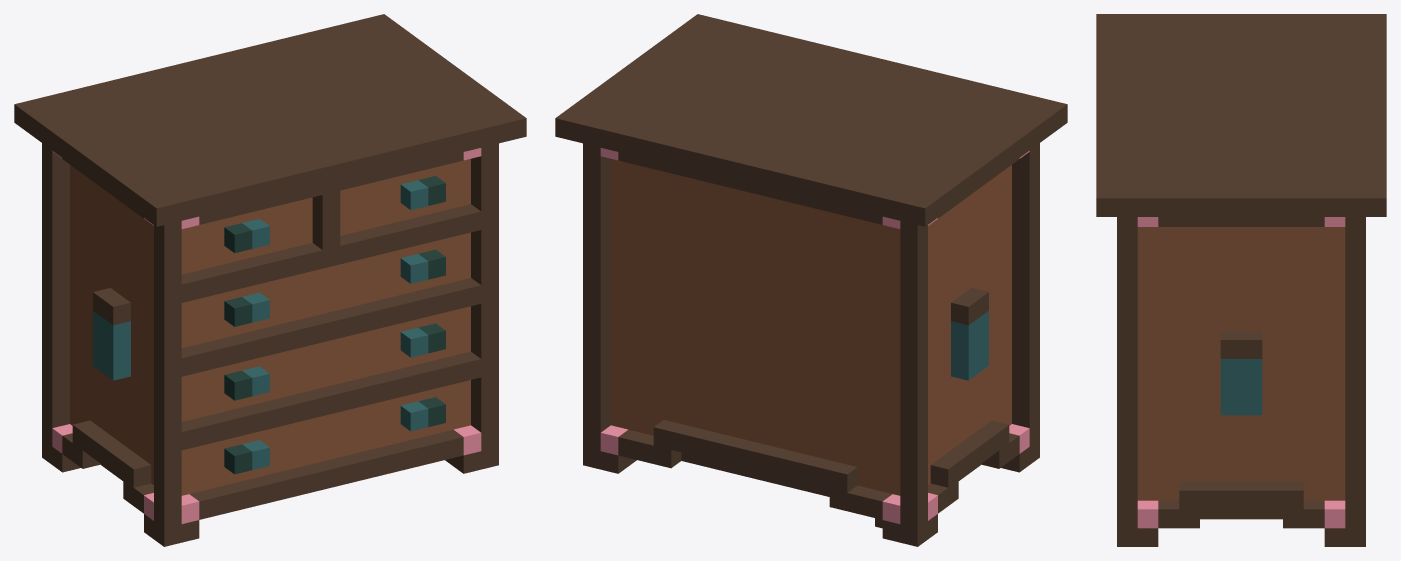
File: prop_drawer_light_brown.glb
The picture shows the model from 3 angles, left to right: view 1: azimuth 30°, elevation 25°; view 2: azimuth 150°, elevation 25°; view 3: azimuth 270°, elevation 25°; orthographic projection. The views are drawn at different scales.
Parts seen in each view (by area): view 1: prop_drawer_light_brown; view 2: prop_drawer_light_brown; view 3: prop_drawer_light_brown.
Boxes of the visible parts, left/top/right/bottom form: prop_drawer_light_brown: left=14, top=14, right=526, bottom=546; prop_drawer_light_brown: left=555, top=14, right=1067, bottom=546; prop_drawer_light_brown: left=1096, top=14, right=1386, bottom=546.
Bounding box in the file's own units: 2.1 × 1.9 × 1.4.
1 material, 1 textured.
